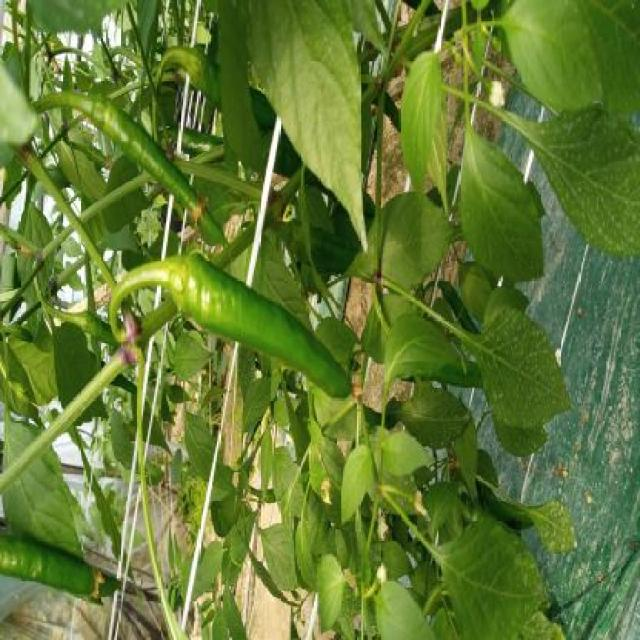green chilli: (169, 252, 351, 400)
